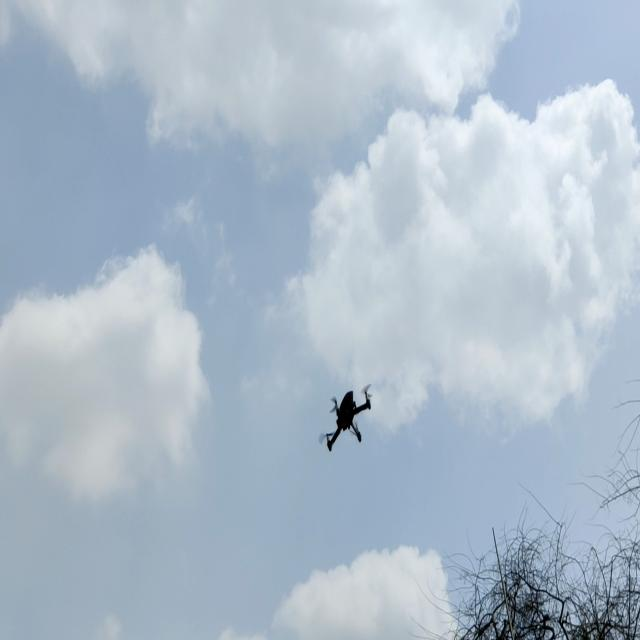drone: (314, 378, 382, 458)
